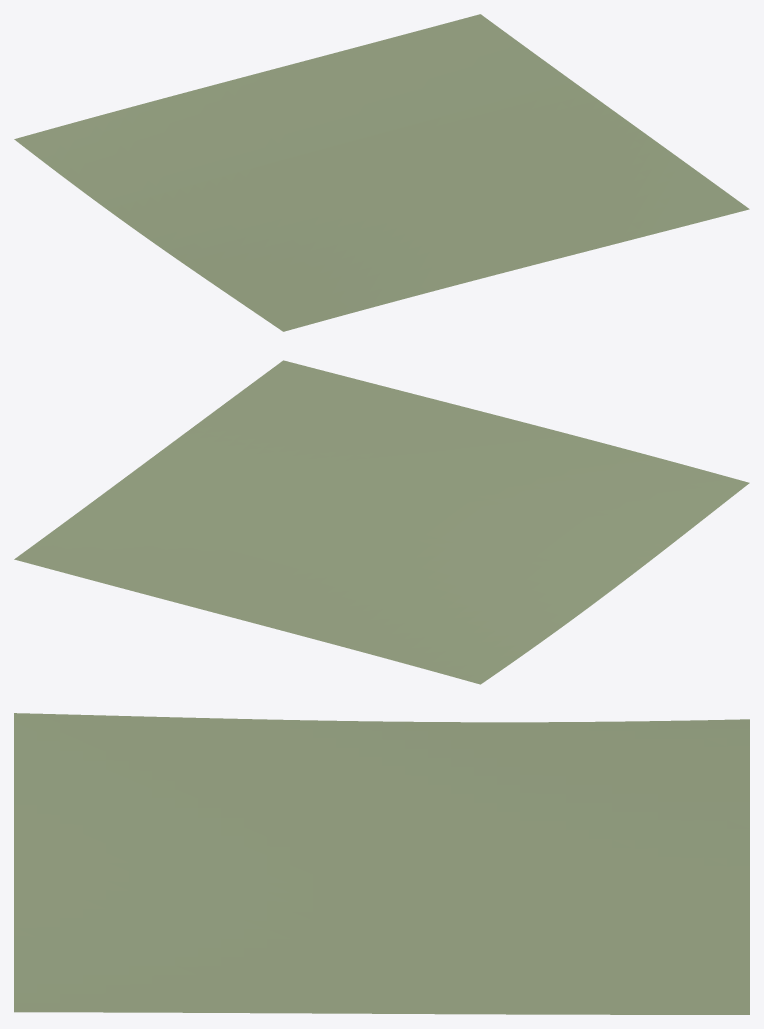
File: desert-27-5.glb
3 renders of one model, top to bottom at view 1: azimuth 30°, elevation 25°; view 2: azimuth 150°, elevation 25°; view 3: azimuth 270°, elevation 25°, orthographic. The views are drawn at different scales.
Parts seen in each view (by area): view 1: desert-27-5; view 2: desert-27-5; view 3: desert-27-5.
Boxes of the visible parts, box(x1,y1,x2,y2) form: desert-27-5: box(14, 14, 749, 331); desert-27-5: box(14, 360, 749, 684); desert-27-5: box(14, 713, 749, 1014).
Size of the model in its own units: 512 by 16.2 by 512.
